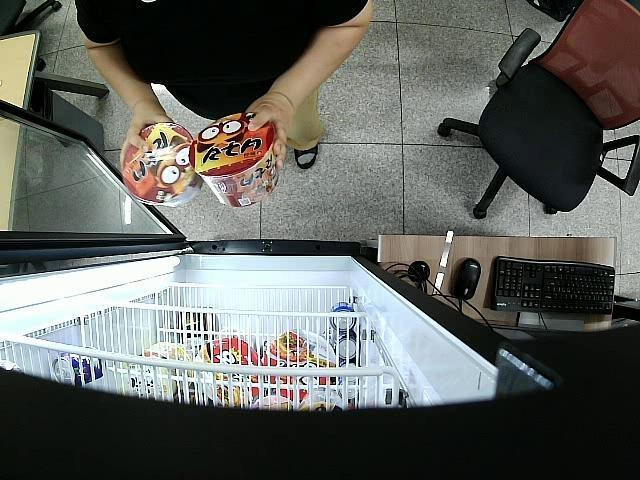05_nuguri_L: (187, 111, 280, 206), (119, 122, 196, 204)
